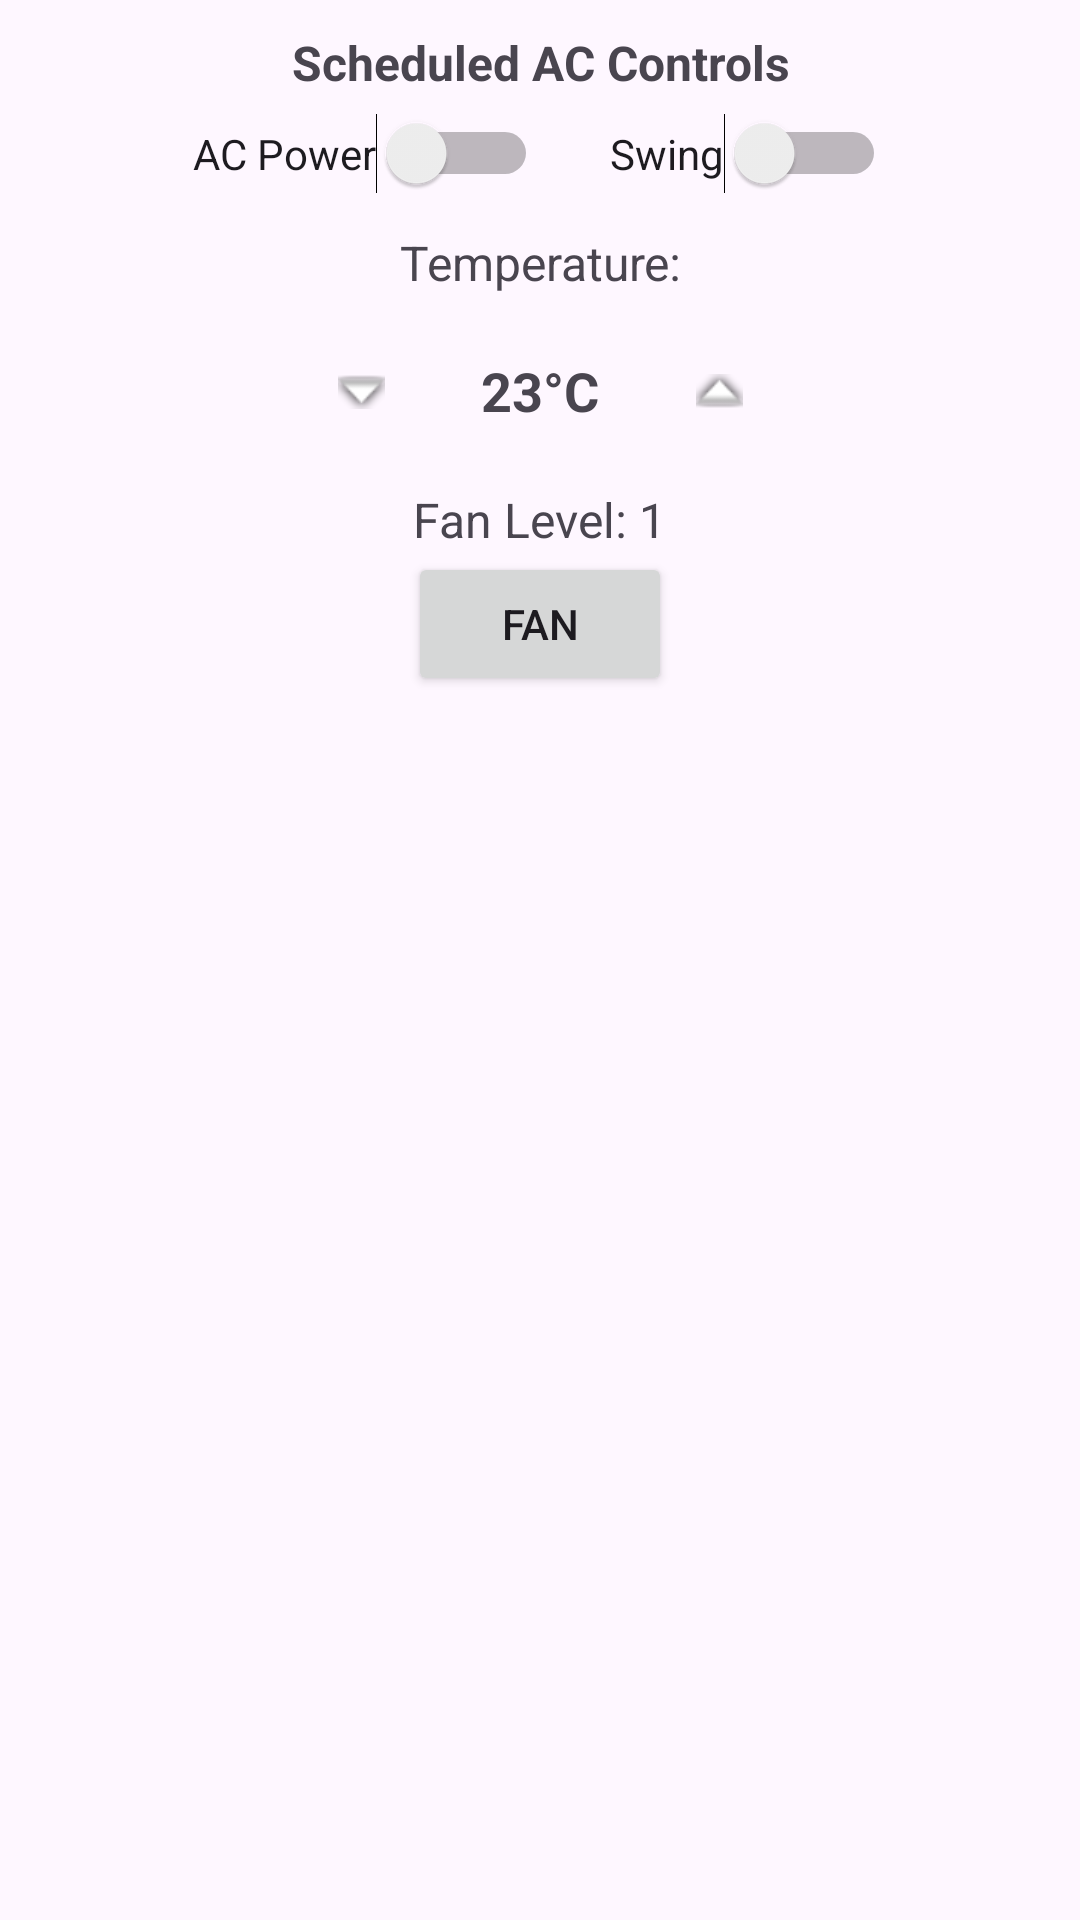

Named icons in this screenshot (1080px x 1920px) and their bounding boxes, (x1, y1, x2, y2):
arrow down float: (338, 376, 385, 408)
arrow up float: (696, 375, 743, 407)
